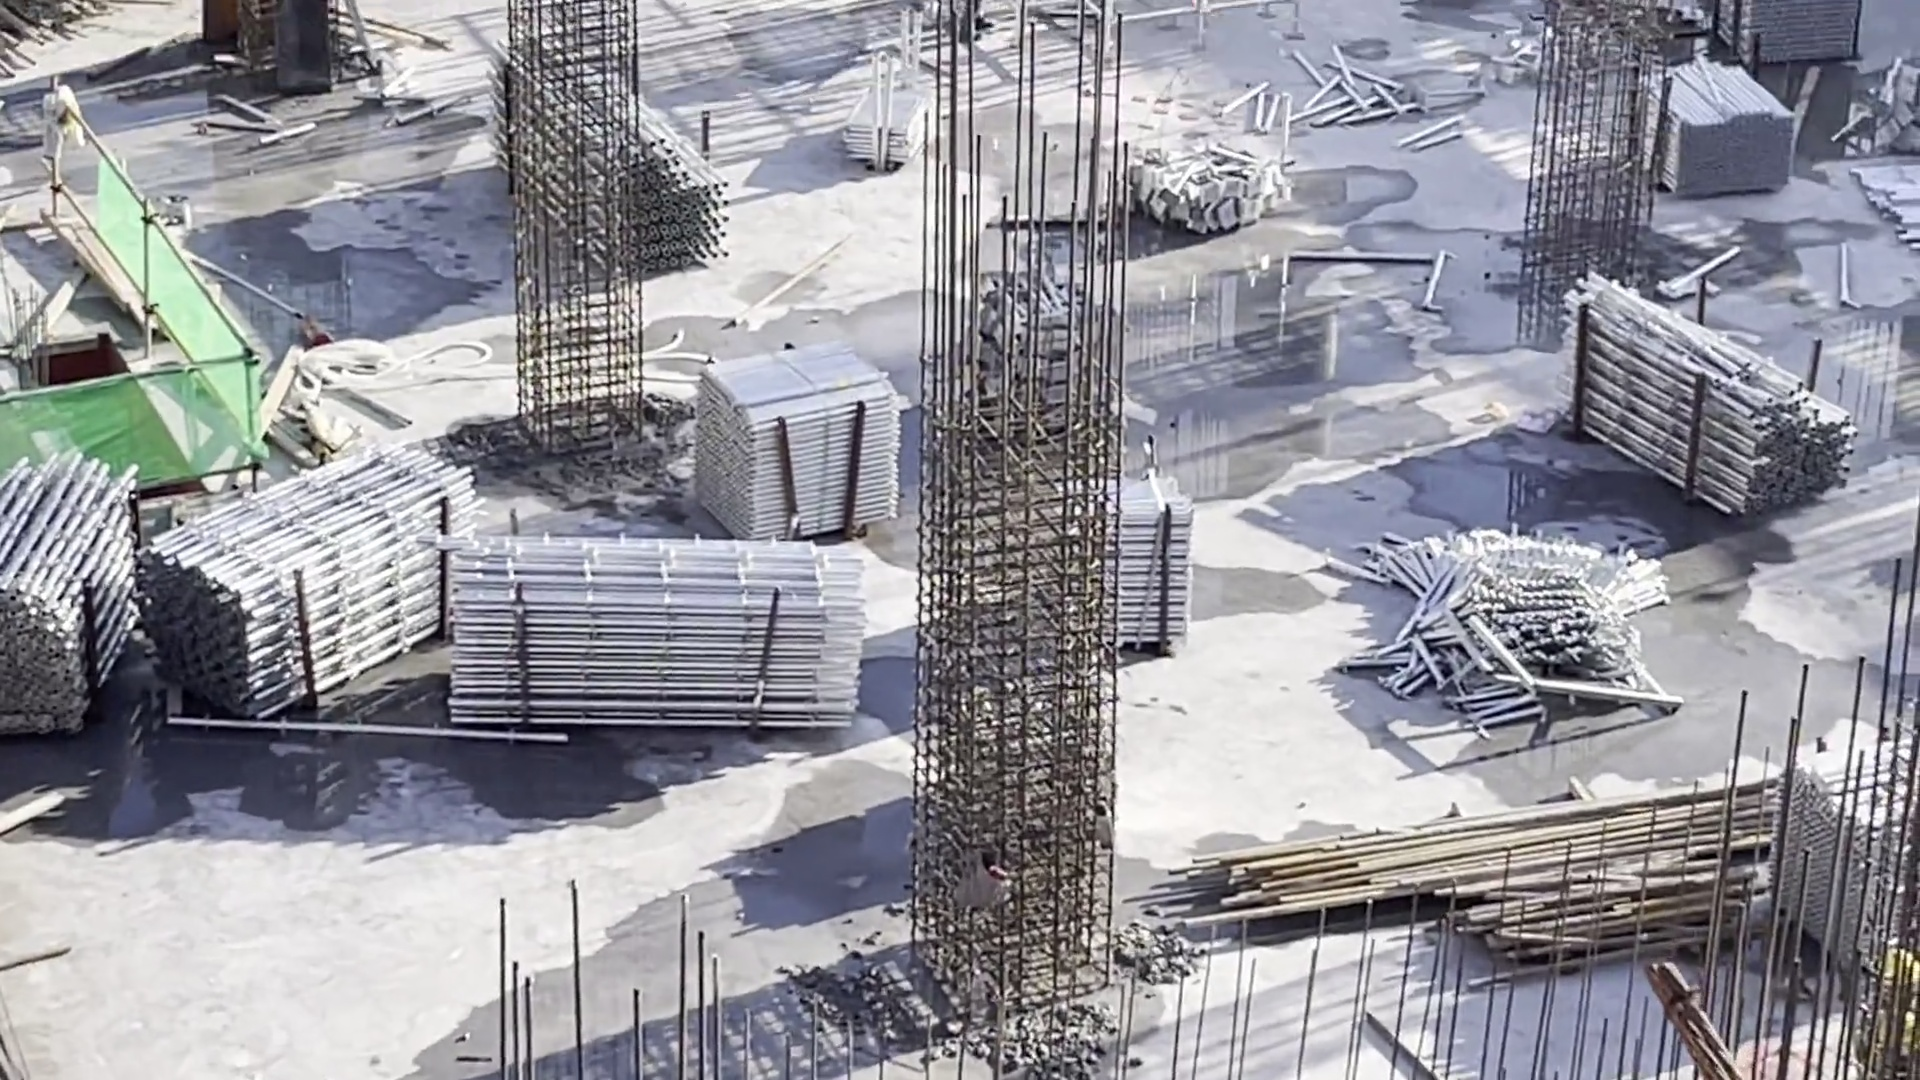scaffold: (435, 541, 855, 712), (207, 443, 439, 680), (1398, 551, 1662, 728), (512, 75, 715, 289), (1545, 309, 1796, 469), (1, 452, 125, 731), (715, 368, 880, 520), (1801, 732, 1913, 949), (1644, 67, 1800, 193), (1120, 500, 1193, 637), (860, 55, 934, 164), (1746, 1, 1857, 63)
